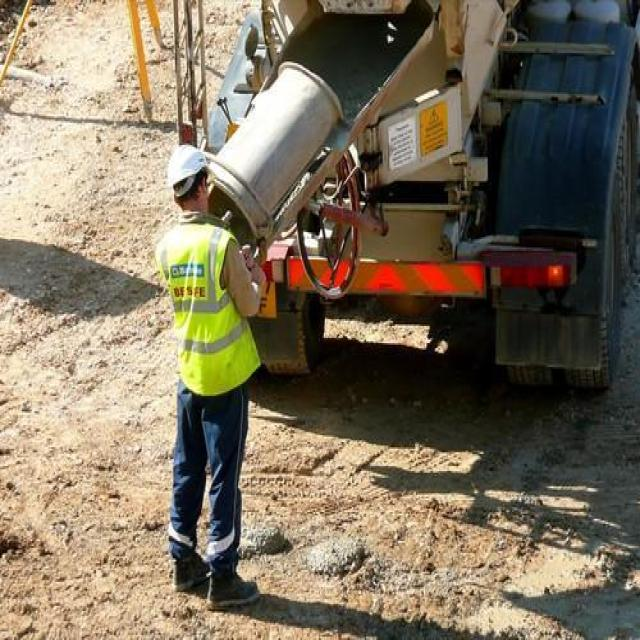Vest: (154, 212, 262, 394)
